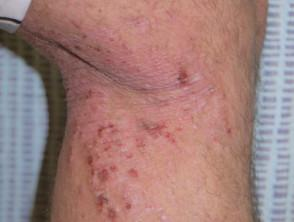Eczema: (139, 84, 171, 108), (118, 91, 144, 119), (163, 156, 186, 182), (92, 121, 116, 145), (131, 14, 158, 34), (185, 101, 207, 125), (225, 35, 243, 64), (139, 125, 170, 141), (175, 68, 197, 90), (71, 123, 92, 146), (95, 189, 117, 209), (80, 154, 108, 169), (81, 86, 108, 101), (80, 105, 111, 118), (161, 9, 181, 29), (62, 146, 83, 165), (120, 150, 144, 166), (219, 111, 235, 135), (168, 127, 186, 148), (91, 174, 122, 186), (68, 80, 79, 113), (92, 210, 120, 222), (183, 33, 202, 50), (91, 7, 109, 24), (142, 40, 159, 58), (71, 182, 90, 198), (119, 44, 137, 60), (126, 166, 138, 190), (212, 133, 227, 150), (120, 206, 139, 219), (208, 83, 222, 100), (165, 41, 185, 52), (142, 200, 157, 214), (69, 43, 88, 54), (100, 44, 113, 60), (47, 51, 63, 64), (75, 21, 90, 33), (46, 29, 62, 40), (129, 69, 144, 80), (102, 163, 125, 170), (156, 210, 172, 220), (77, 31, 92, 41), (76, 212, 90, 221), (223, 91, 232, 104), (105, 36, 122, 40)
